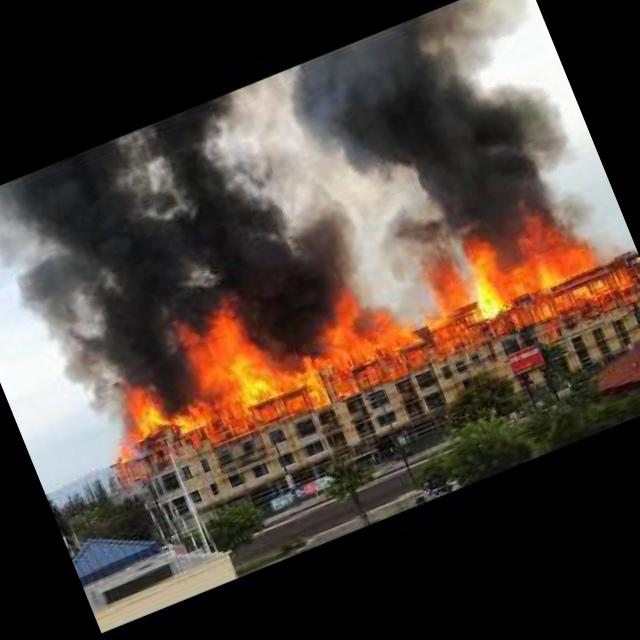fire: (91, 181, 628, 498)
smoke: (0, 0, 597, 396)
